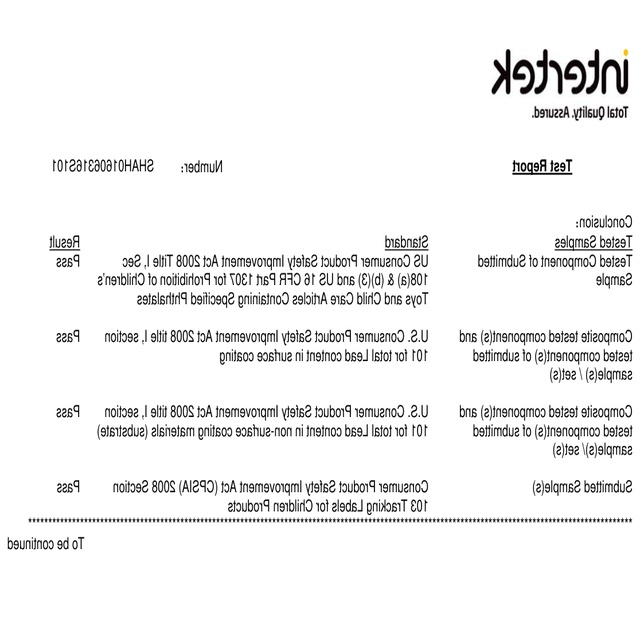intertek: (486, 48, 633, 98)
